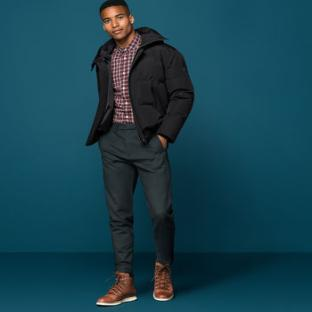Human: (86, 0, 193, 305)
